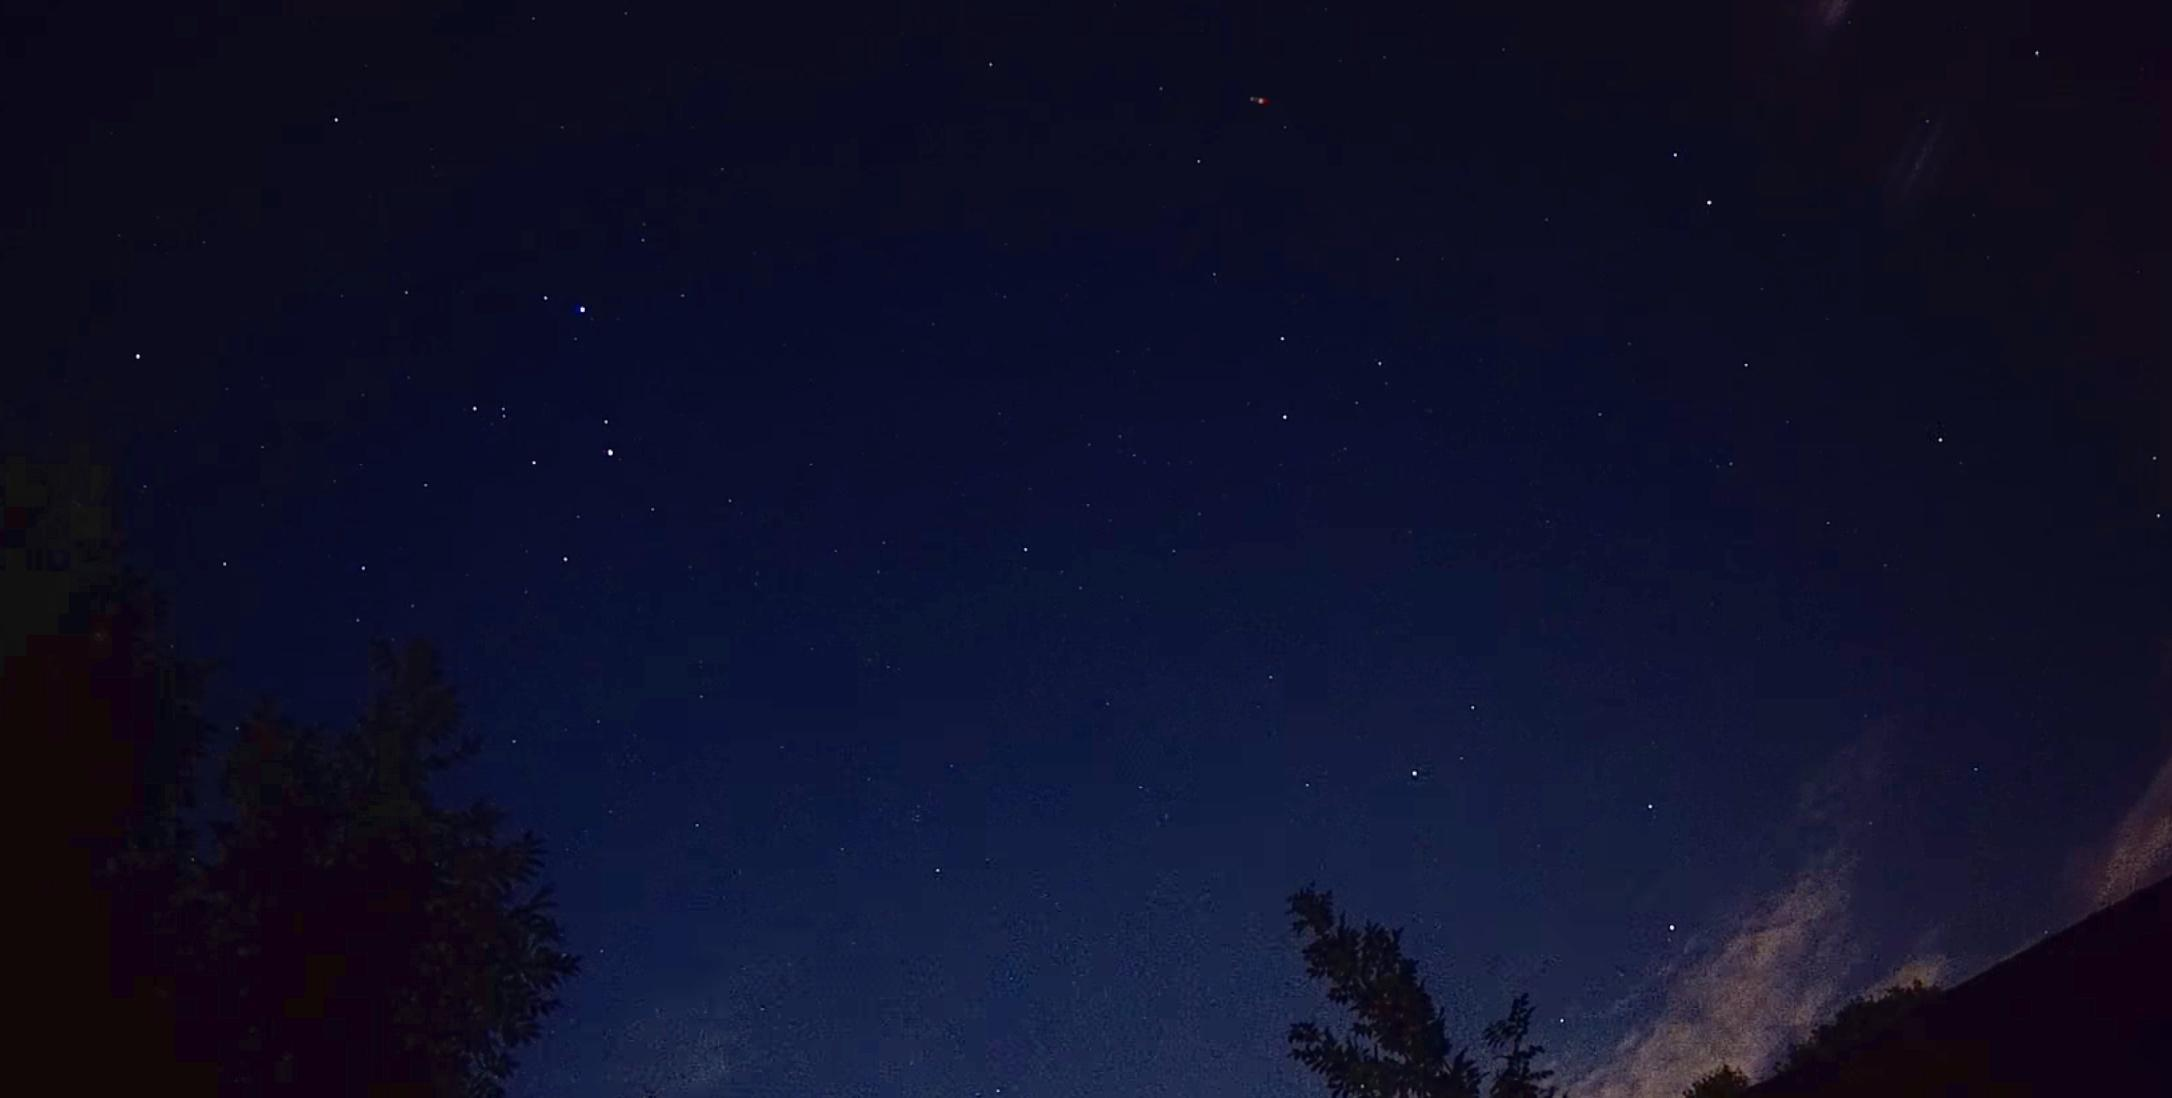Plane: (1221, 87, 1298, 111)
